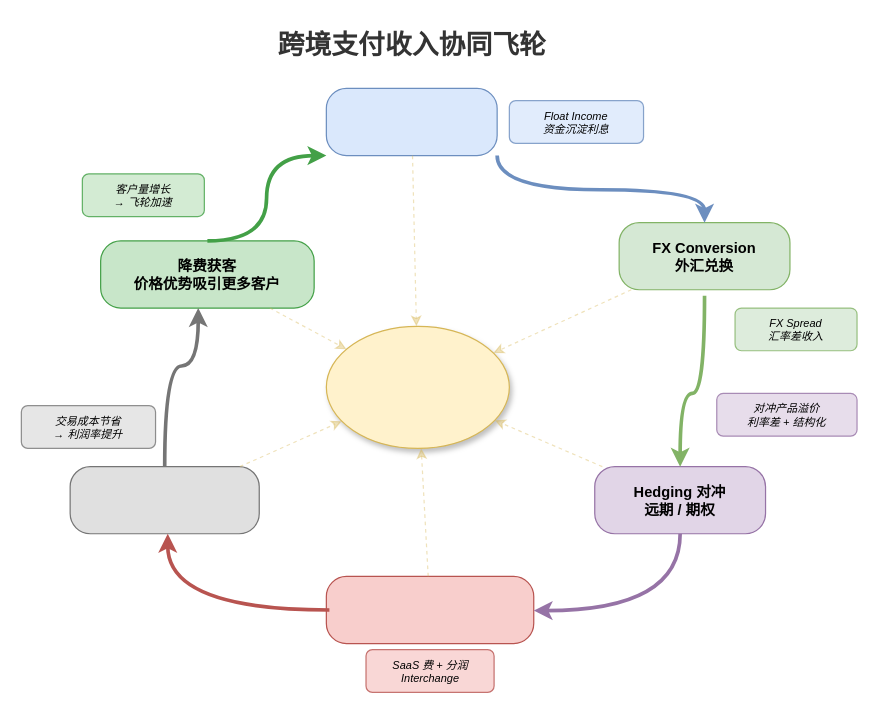
Image size: 878x714. Some labels were removed from this diagram. The centre of each missing label's shape, as x and y in pixels:
"Netting 内部撮合 规模效应" goes at (164,499).
"增值服务 企业卡 / 税务 / 融资" goes at (429,609).
"多币种账户 沉淀资金入口" goes at (411,121).
"客户钱包份额 Wallet Share 最大化" goes at (418,388).
